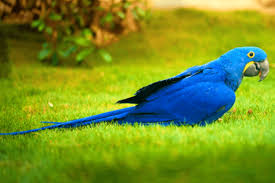guacamaya: (45, 42, 271, 130)
